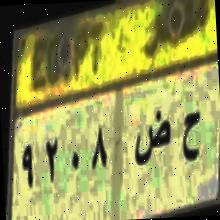0: (66, 142, 86, 184)
2: (40, 129, 64, 193)
7aa: (178, 102, 206, 174)
8: (86, 114, 112, 184)
9: (20, 134, 38, 196)
daad: (132, 96, 173, 180)
